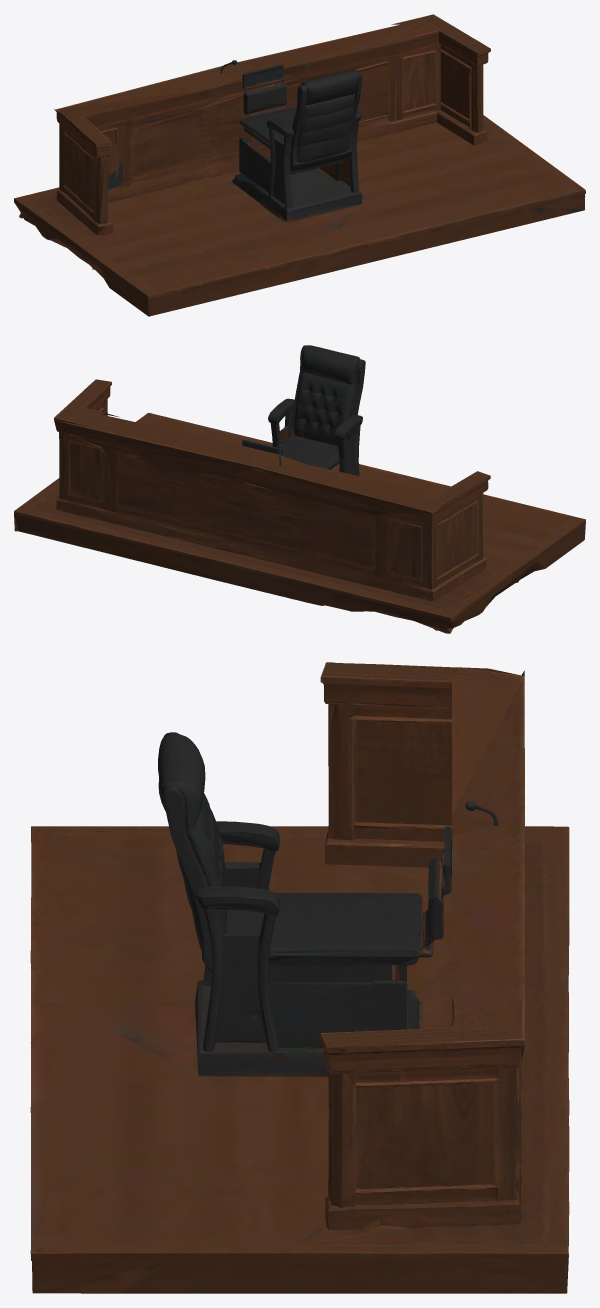
The model's file is sudya-stoli-mobile.glb.
The picture shows the model from 3 angles, top to bottom: view 1: azimuth 30°, elevation 25°; view 2: azimuth 150°, elevation 25°; view 3: azimuth 270°, elevation 25°; orthographic projection. The views are drawn at different scales.
Visible parts, largest first — view 1: output_unwrapped; view 2: output_unwrapped; view 3: output_unwrapped.
Boxes of the visible parts, x1=… form: output_unwrapped: x1=14, y1=14, x2=585, y2=316; output_unwrapped: x1=14, y1=345, x2=585, y2=633; output_unwrapped: x1=30, y1=662, x2=569, y2=1293.
Bounding box in the file's own units: 2.5 × 0.8811 × 1.33.
Materials: 1 (1 with a texture image).
